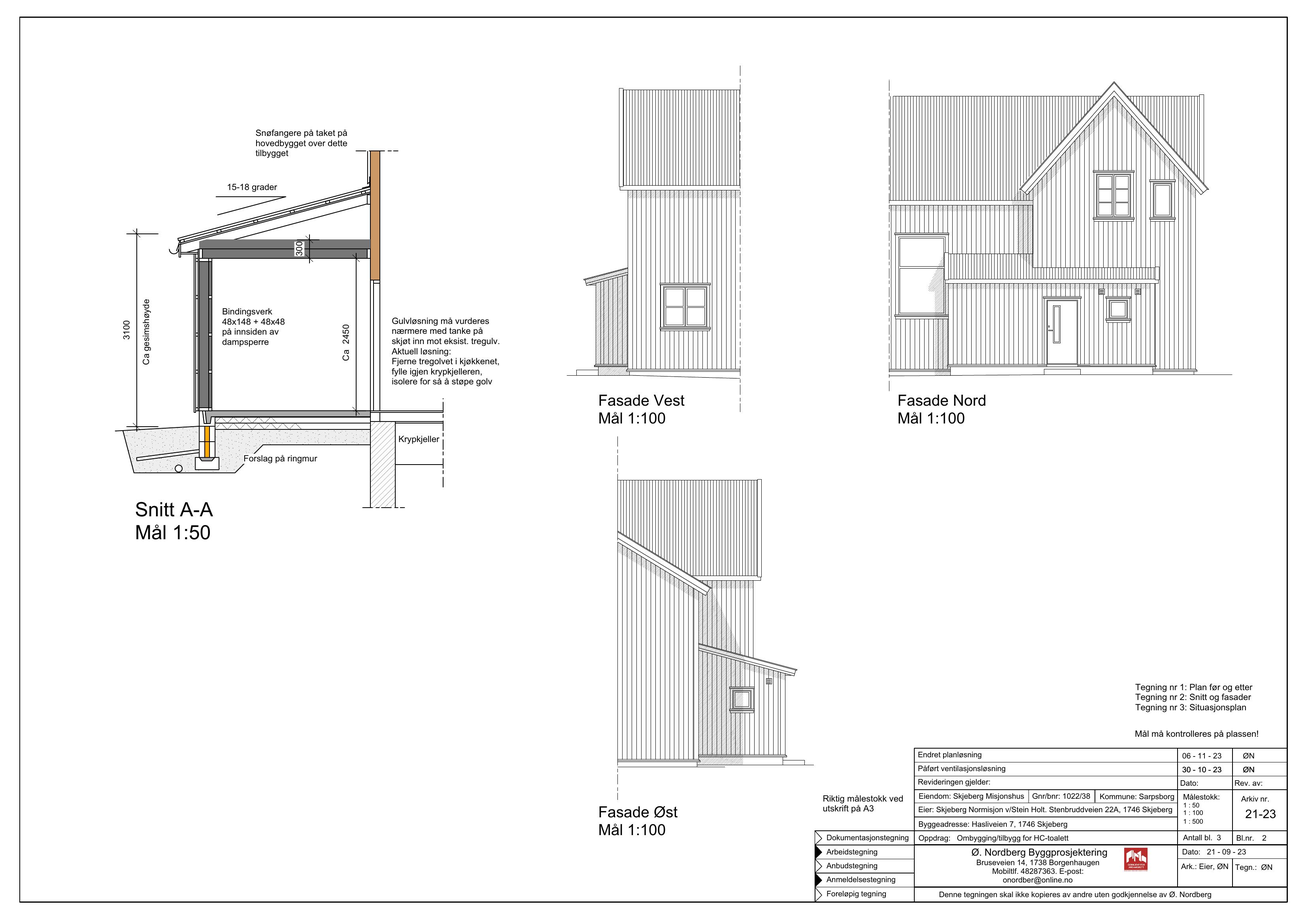fasade: (889, 80, 1210, 375), (617, 479, 806, 768), (575, 87, 741, 380)
snitt: (121, 151, 445, 508)
